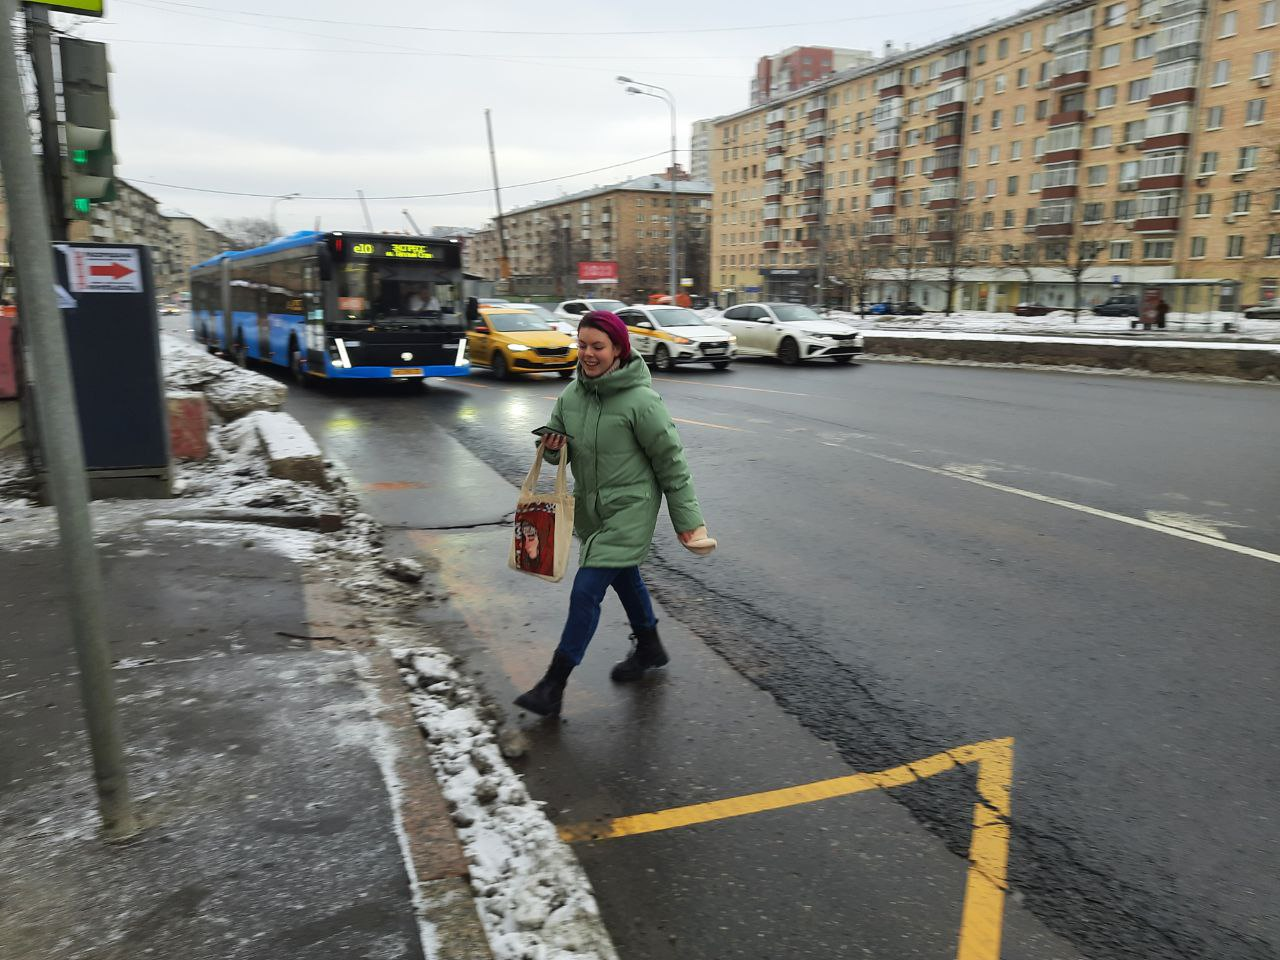sombie: (493, 274, 720, 768)
